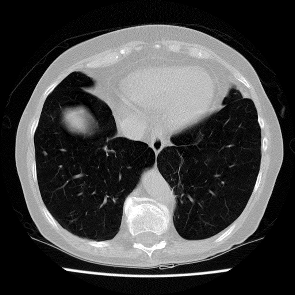nodule: (43, 151, 47, 155)
